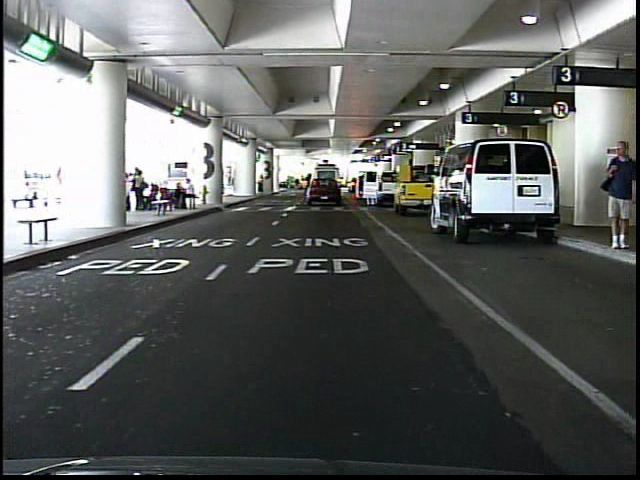person: (597, 134, 634, 254), (257, 172, 269, 196)
